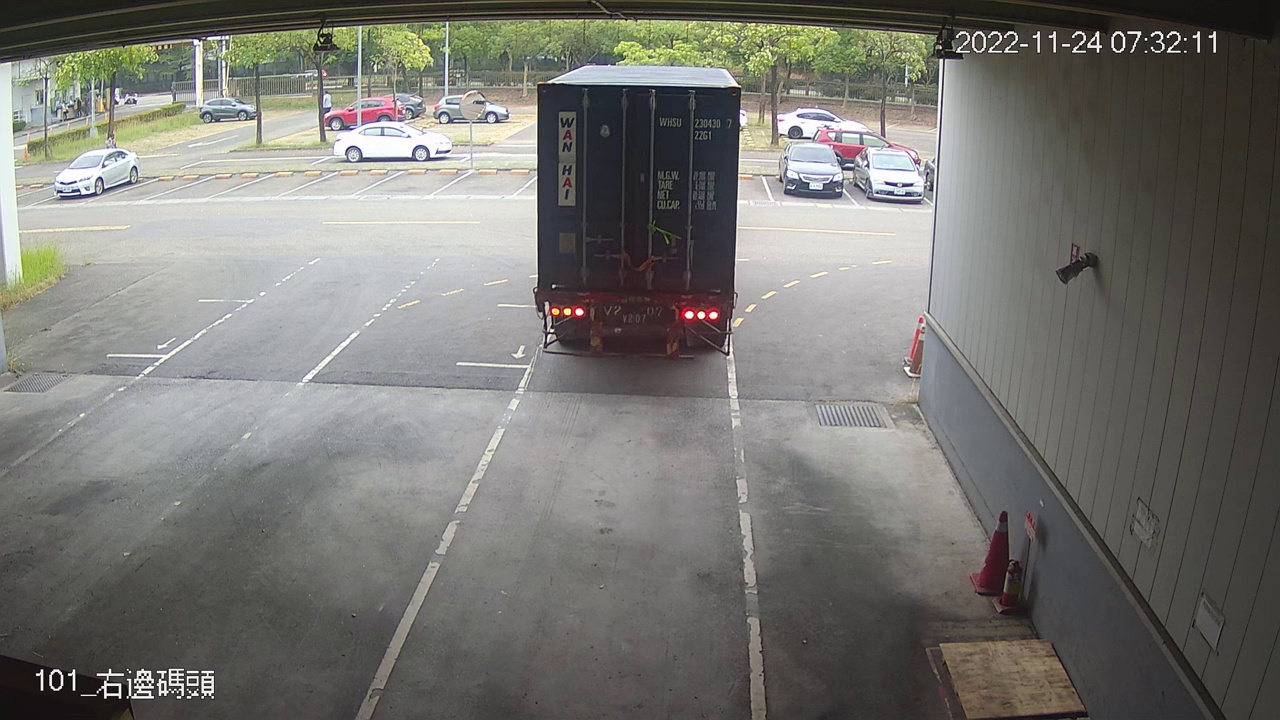container: (655, 111, 736, 150)
